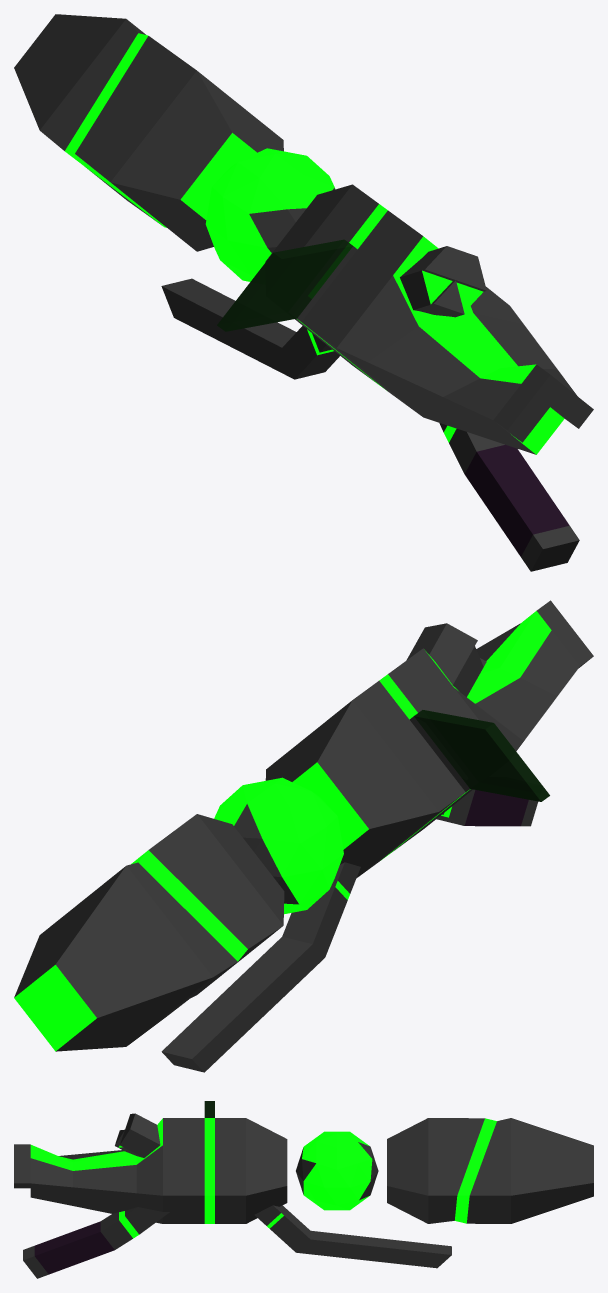
File: PlasmaBolter.glb
3 renders of one model, top to bottom at view 1: azimuth 30°, elevation 25°; view 2: azimuth 150°, elevation 25°; view 3: azimuth 270°, elevation 25°, orthographic. The views are drawn at different scales.
Parts seen in each view (by area): view 1: Cube; view 2: Cube; view 3: Cube.
Part boxes in pixels (x1,y1,x2,y2): Cube: [14, 14, 593, 571]; Cube: [14, 600, 593, 1072]; Cube: [14, 1101, 593, 1278].
Bounding box in the file's own units: 4.06 × 4.13 × 14.
